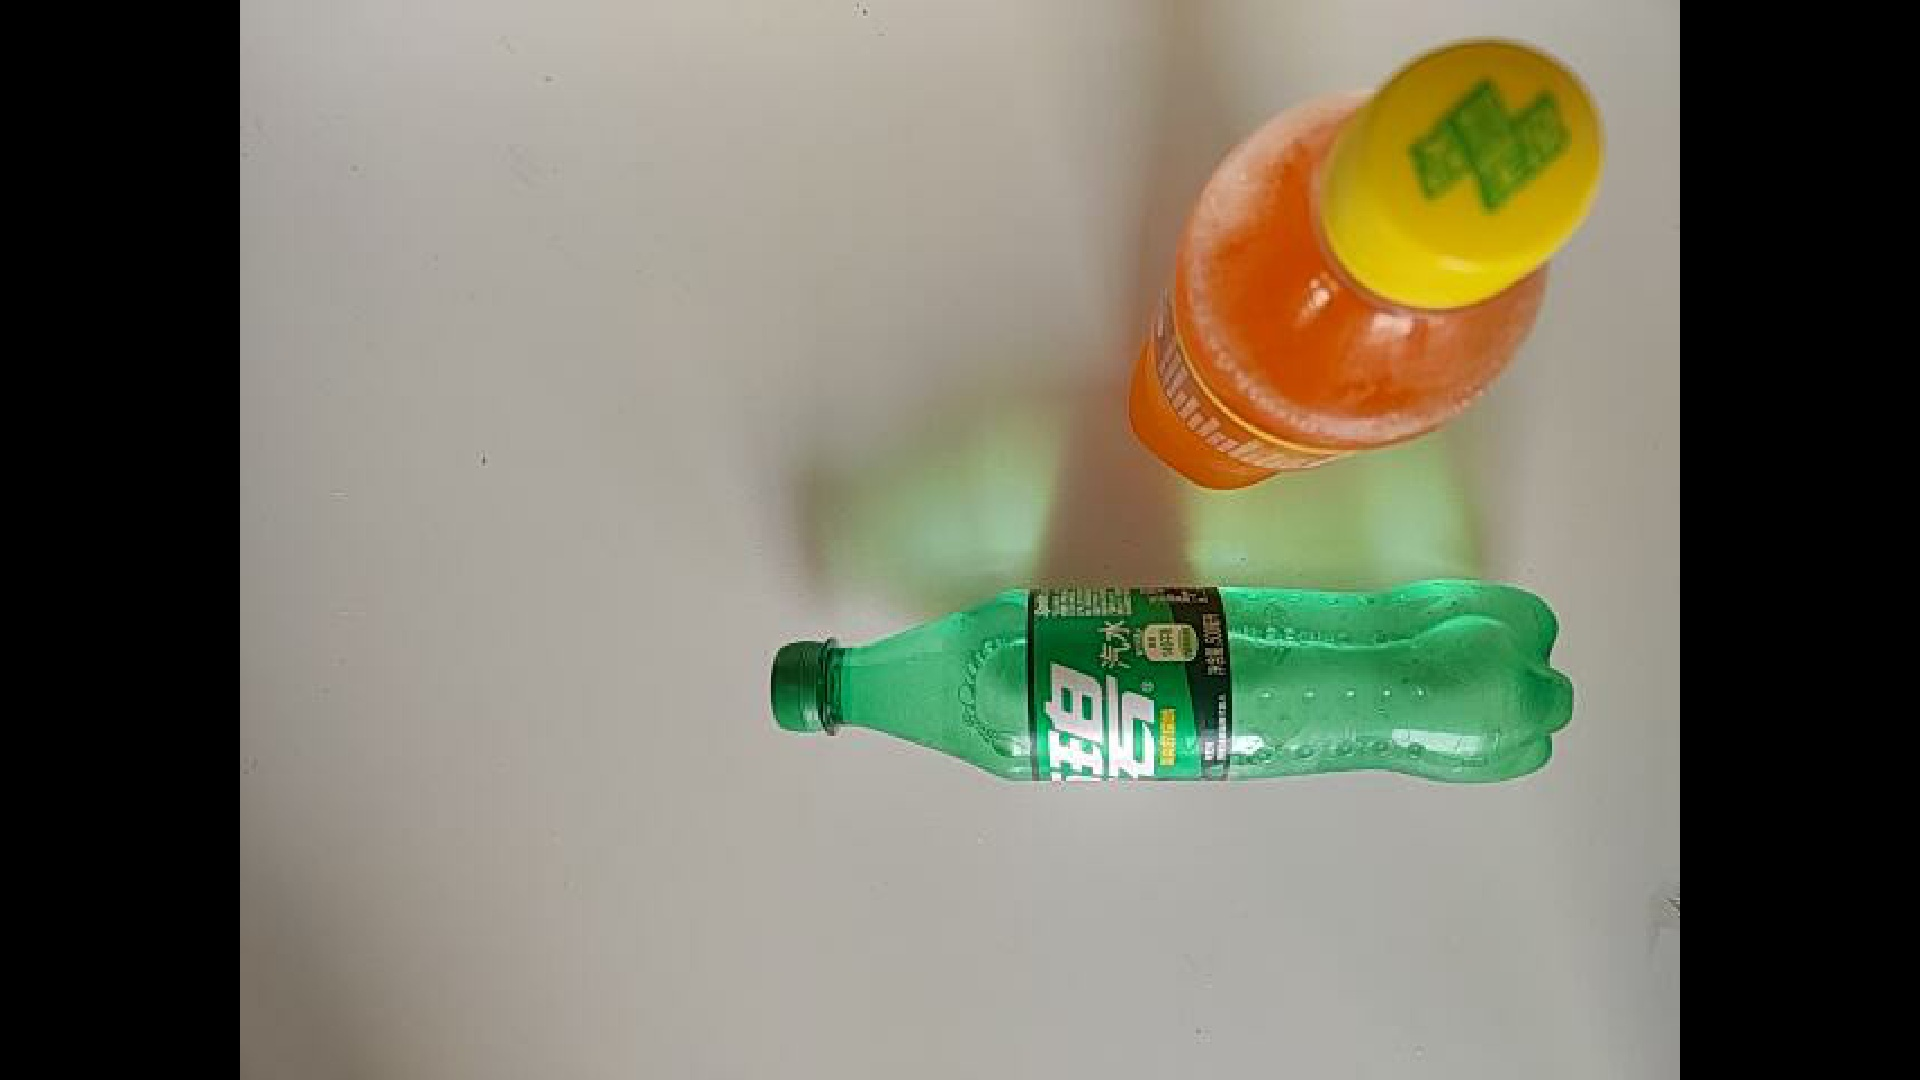fenta: (1126, 37, 1606, 492)
sprite: (769, 578, 1576, 785)
